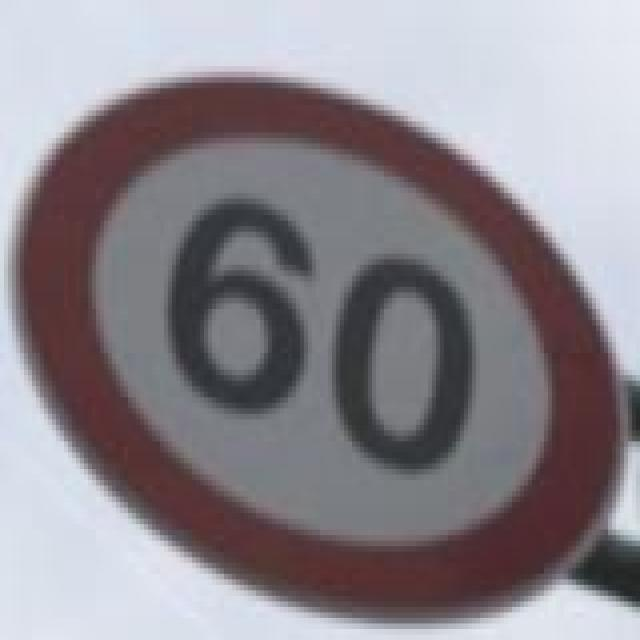Ograniczenie predkosci do 60: (8, 66, 624, 629)
